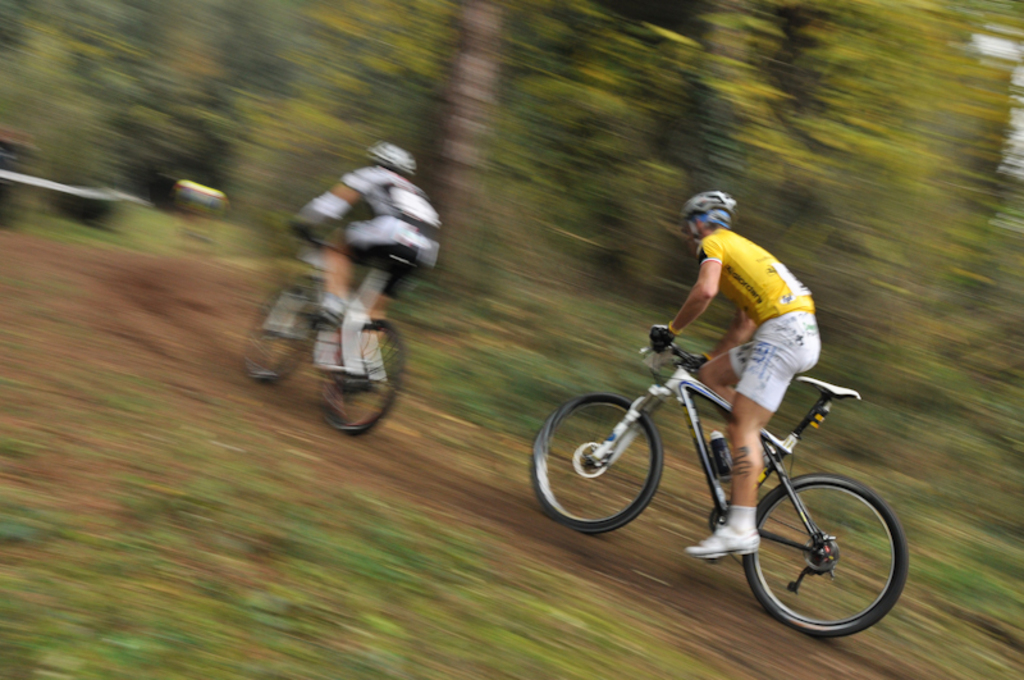Bike_away: (528, 325, 908, 641), (240, 221, 424, 439)
